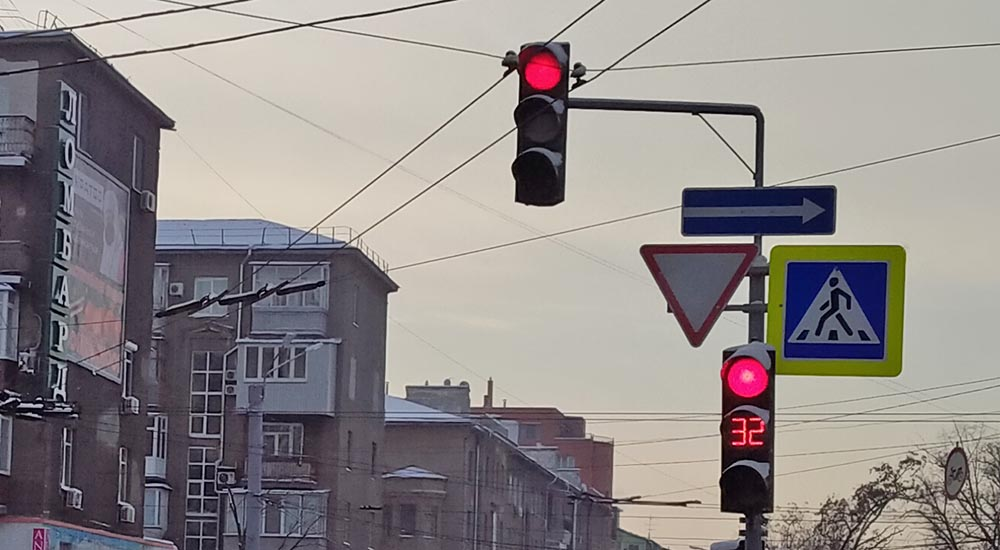tl: (510, 41, 567, 205), (720, 347, 774, 511)
